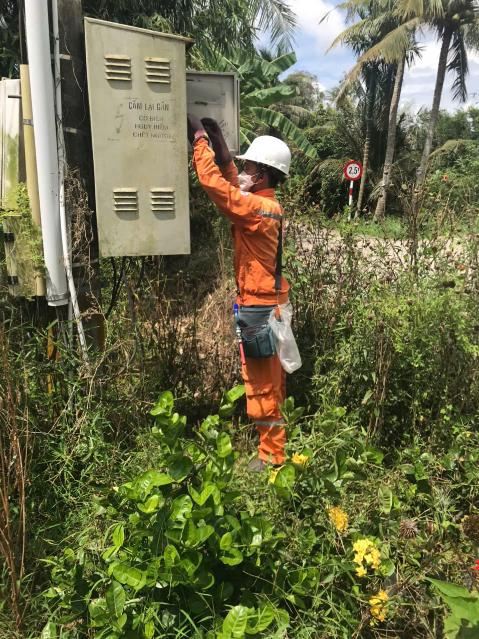gloves: (205, 115, 247, 166), (175, 107, 209, 147)
helmet: (236, 137, 296, 178)
